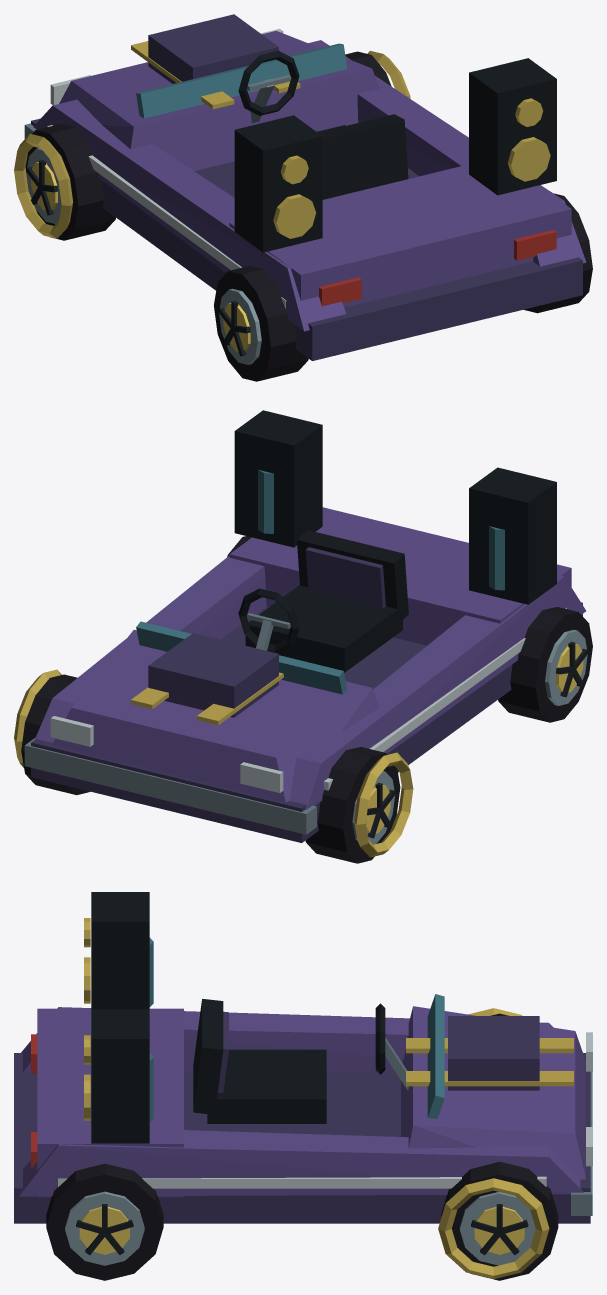
Rendered from kart.glb.
3 views of the same model, one above another, from view 1: azimuth 30°, elevation 25°; view 2: azimuth 150°, elevation 25°; view 3: azimuth 270°, elevation 25° (orthographic). The views are drawn at different scales.
Visible parts, largest first — view 1: identity-muscle-car-muscle-car-road-car-body, identity-muscle-car-motif-speakers, identity-muscle-car-driver-cockpit, wheel-rear-left, wheel-front-left, identity-muscle-car-motif-neon, wheel-rear-right, wheel-front-right; view 2: identity-muscle-car-muscle-car-road-car-body, identity-muscle-car-motif-speakers, identity-muscle-car-driver-cockpit, wheel-rear-left, wheel-front-left, identity-muscle-car-motif-neon, identity-muscle-car-motif-bottles, wheel-front-right; view 3: identity-muscle-car-muscle-car-road-car-body, identity-muscle-car-motif-speakers, identity-muscle-car-driver-cockpit, wheel-rear-right, identity-muscle-car-motif-neon, wheel-front-right, identity-muscle-car-motif-bottles.
Boxes of the visible parts, x1=… form: identity-muscle-car-muscle-car-road-car-body: x1=24, y1=14, x2=586, y2=360; identity-muscle-car-motif-speakers: x1=234, y1=58, x2=556, y2=252; identity-muscle-car-driver-cockpit: x1=238, y1=50, x2=408, y2=199; wheel-rear-left: x1=214, y1=265, x2=308, y2=381; wheel-front-left: x1=25, y1=124, x2=115, y2=240; identity-muscle-car-motif-neon: x1=14, y1=50, x2=410, y2=308; wheel-rear-right: x1=523, y1=193, x2=592, y2=313; wheel-front-right: x1=345, y1=51, x2=391, y2=86; identity-muscle-car-muscle-car-road-car-body: x1=24, y1=507, x2=585, y2=842; identity-muscle-car-motif-speakers: x1=234, y1=410, x2=556, y2=604; identity-muscle-car-driver-cockpit: x1=238, y1=530, x2=408, y2=672; wheel-rear-left: x1=498, y1=607, x2=592, y2=722; wheel-front-left: x1=305, y1=747, x2=400, y2=863; identity-muscle-car-motif-neon: x1=14, y1=608, x2=566, y2=857; identity-muscle-car-motif-bottles: x1=258, y1=470, x2=504, y2=590; wheel-front-right: x1=21, y1=674, x2=90, y2=795; identity-muscle-car-muscle-car-road-car-body: x1=14, y1=994, x2=592, y2=1223; identity-muscle-car-motif-speakers: x1=84, y1=892, x2=149, y2=1143; identity-muscle-car-driver-cockpit: x1=193, y1=999, x2=408, y2=1123; wheel-rear-right: x1=46, y1=1163, x2=163, y2=1280; identity-muscle-car-motif-neon: x1=58, y1=1008, x2=549, y2=1278; wheel-front-right: x1=441, y1=1161, x2=558, y2=1280; identity-muscle-car-motif-bottles: x1=149, y1=937, x2=153, y2=1122.
Size of the model in its own units: 2.13 by 1.33 by 2.96.
